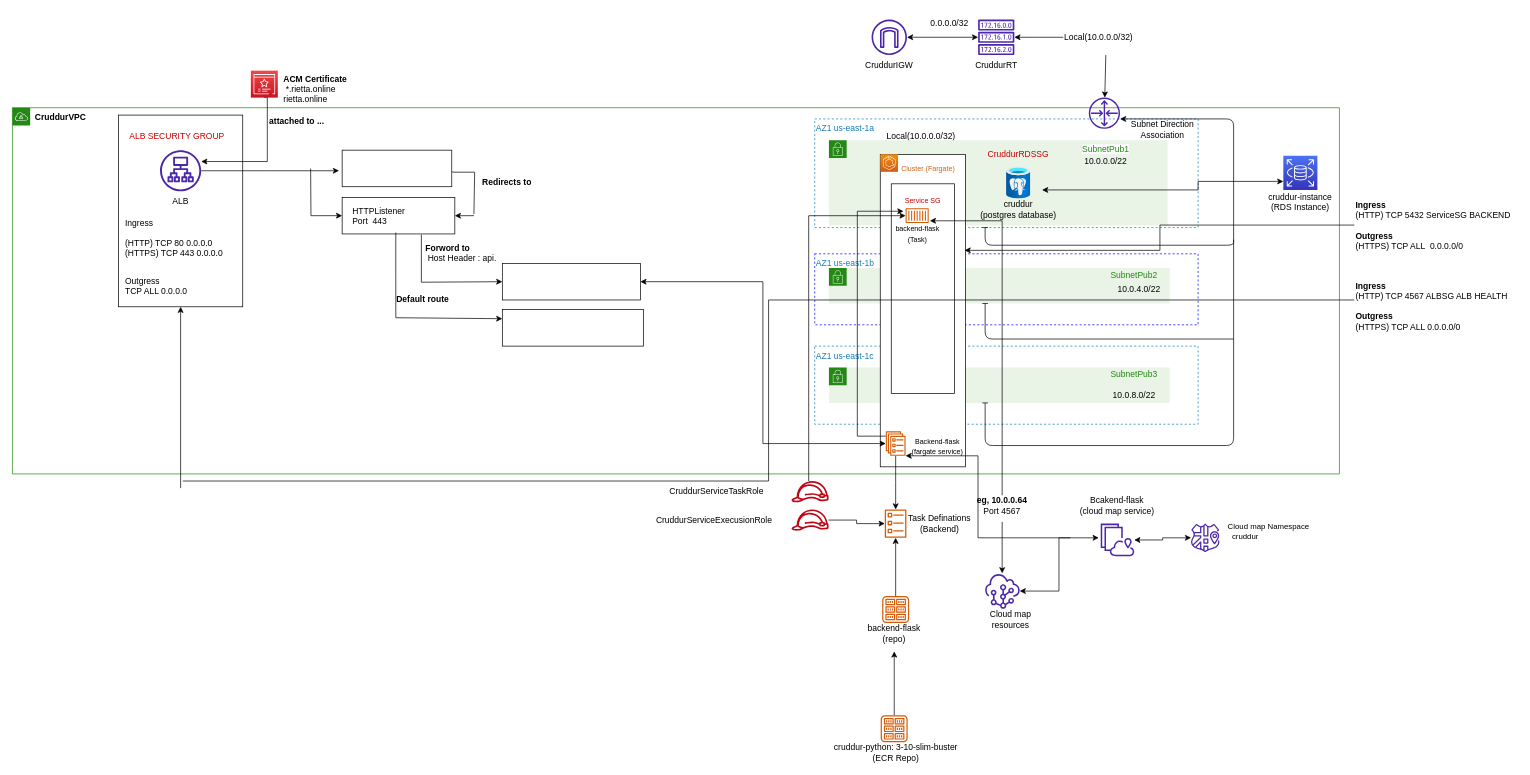
Image size: 1530x775. Some labels were removed from this diagram. The centre of each missing label's shape, as x and y in pixels:
Backend Target Group Healthcheck "api/health-check: the point at 571,281
Frontend Target Group Healthcheck "/": the point at 572,327
HTTPListener Port 80: the point at 396,168
